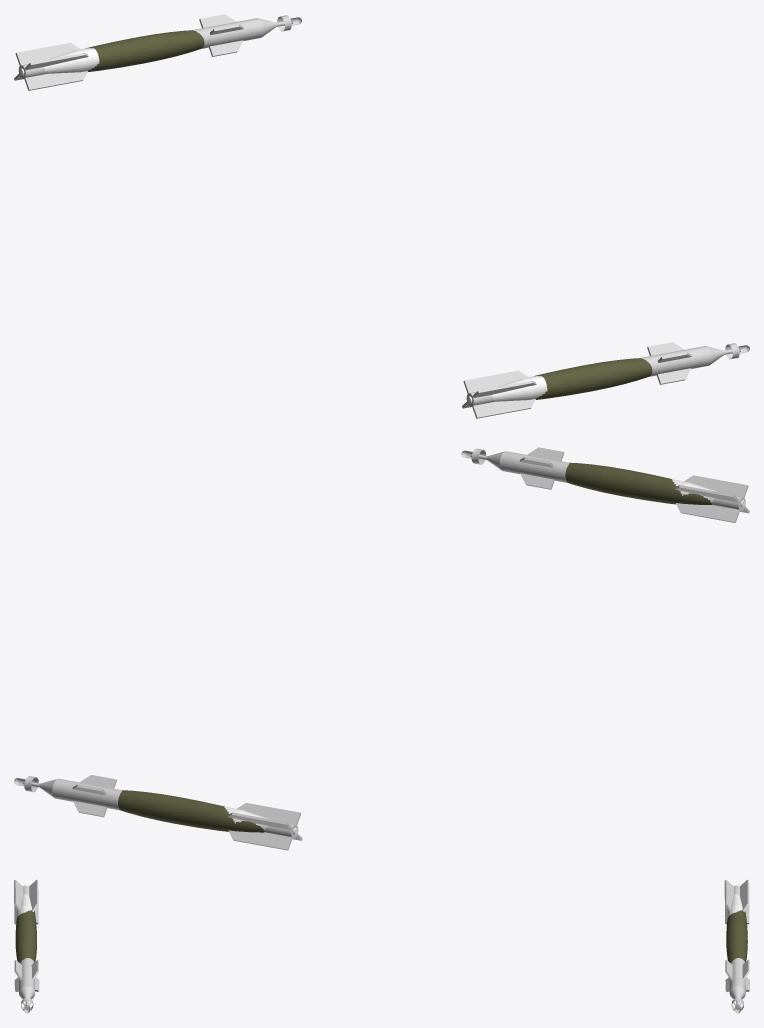
File: f35bgbu1214.glb
3 renders of one model, top to bottom at view 1: azimuth 30°, elevation 25°; view 2: azimuth 150°, elevation 25°; view 3: azimuth 270°, elevation 25°, orthographic. The views are drawn at different scales.
Visible parts, largest first — view 1: 円柱.012, 円柱.003; view 2: 円柱.012, 円柱.003; view 3: 円柱.003, 円柱.012.
Part boxes in pixels (x1,y1,x2,y2): 円柱.012: (462,342,749,418); 円柱.003: (14,14,301,90); 円柱.012: (461,447,749,522); 円柱.003: (14,775,302,850); 円柱.003: (724,879,749,1013); 円柱.012: (14,879,39,1013).
Bounding box in the file's own units: 3.69 × 0.5113 × 10.51.
Materials: 2 (1 with a texture image).
